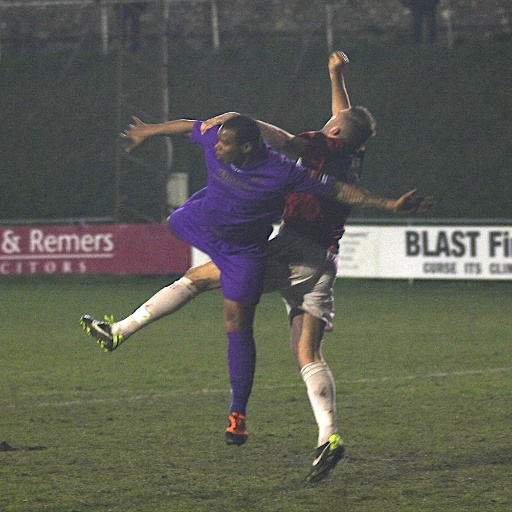hand: (115, 113, 152, 154), (391, 186, 441, 215), (197, 111, 239, 135), (325, 49, 348, 70)
